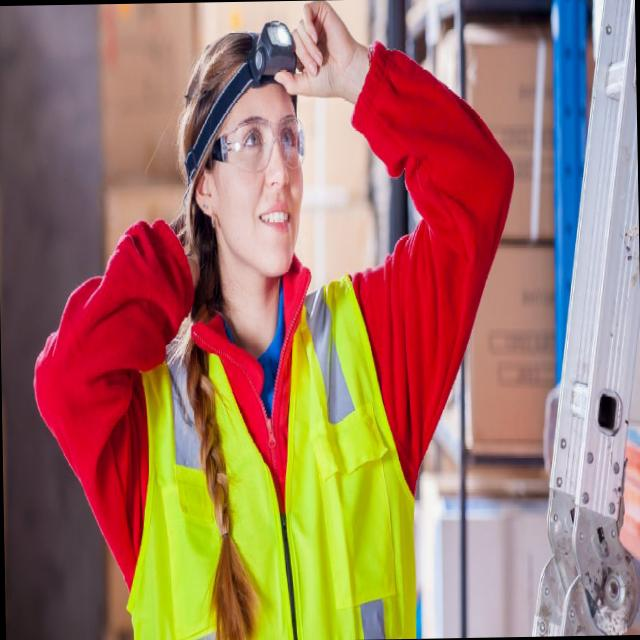goggles: (219, 114, 305, 174)
no-helmet: (180, 11, 296, 137)
vest: (124, 265, 415, 640)
